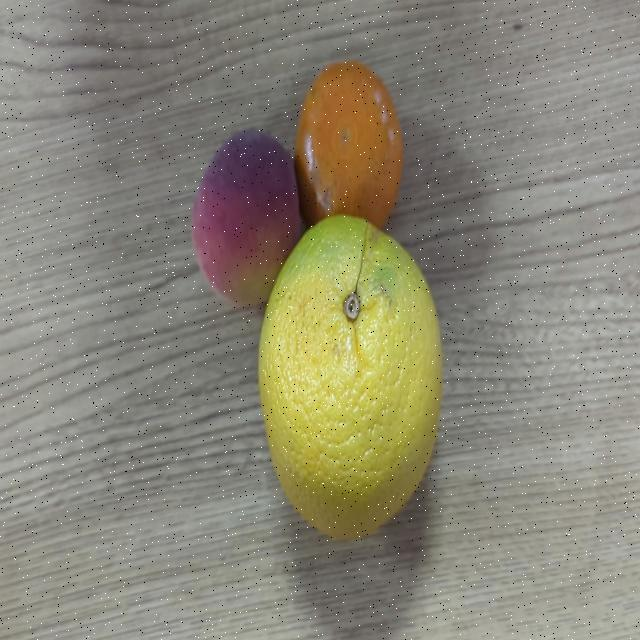Jeruk: (259, 210, 446, 544)
Jeruk Mandarin: (296, 54, 405, 227)
Persik: (193, 121, 305, 306)
